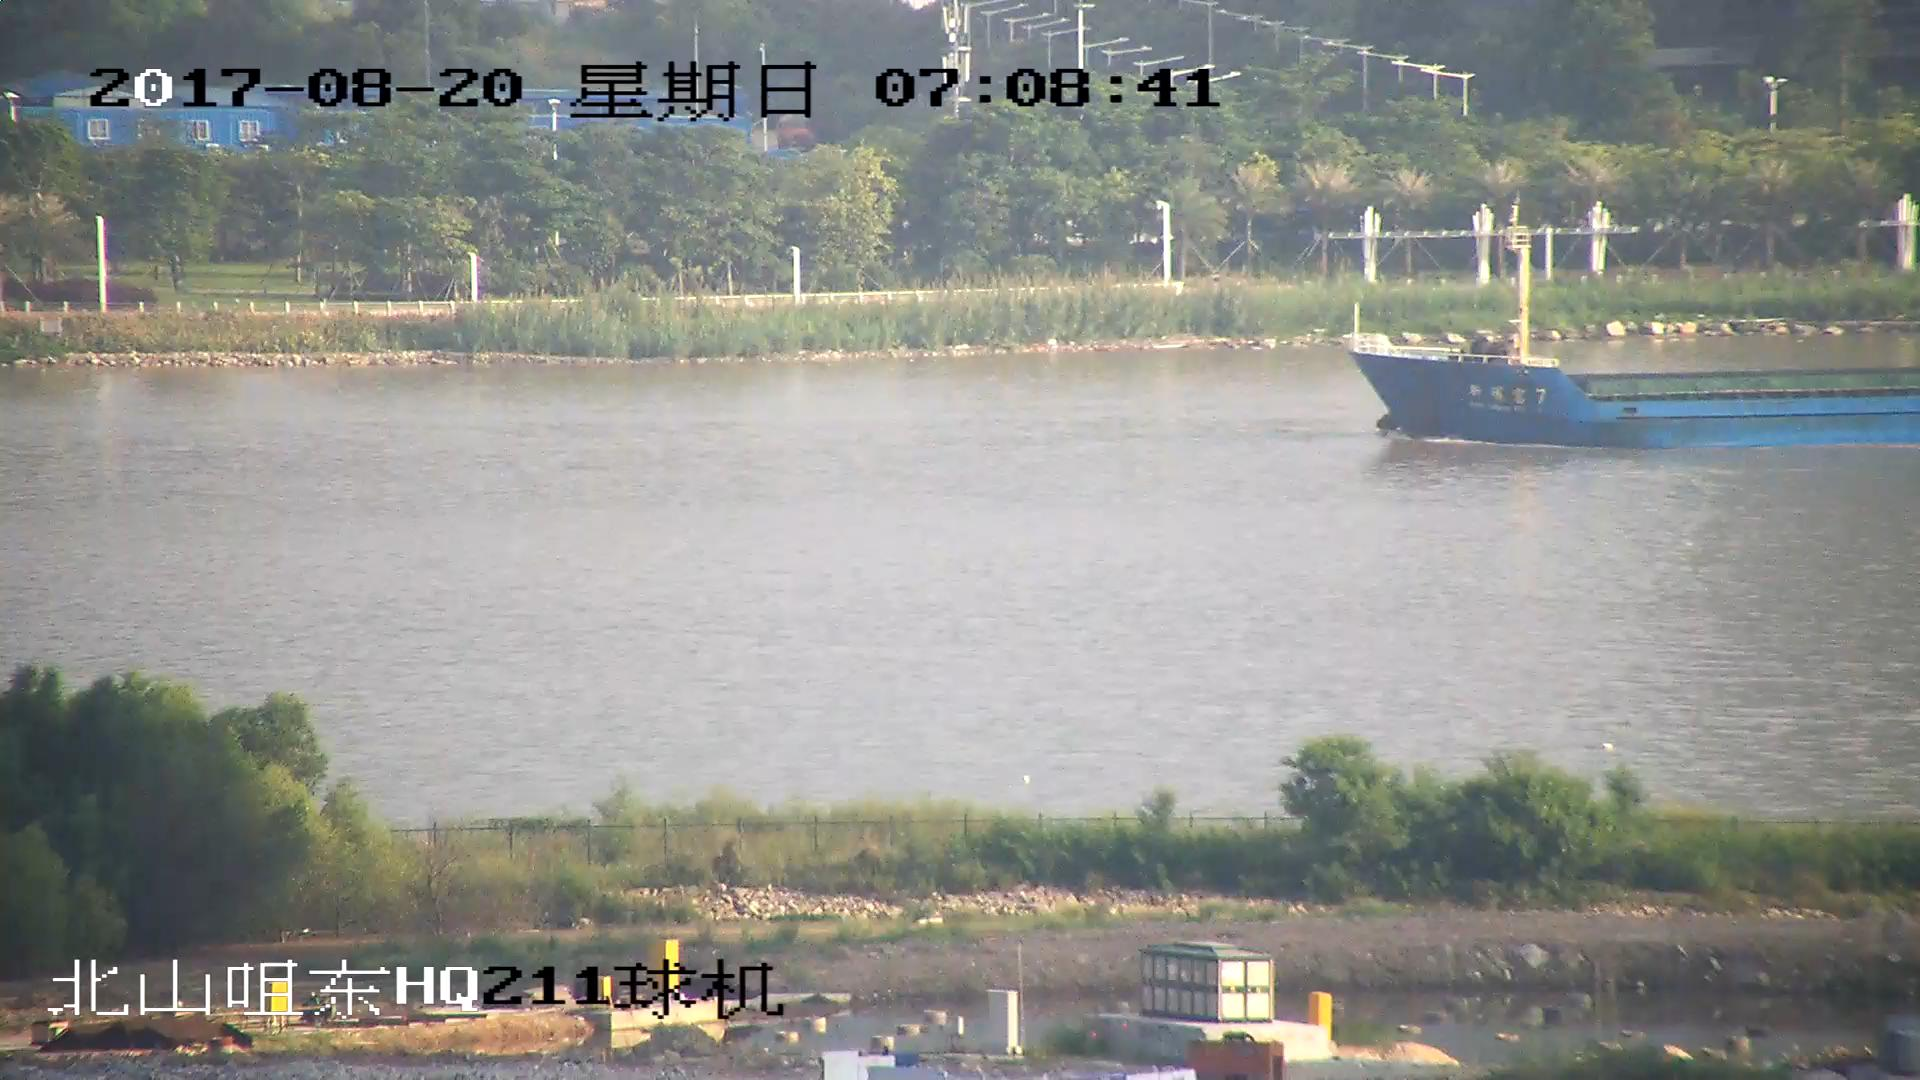general cargo ship: (1349, 234, 1920, 446)
